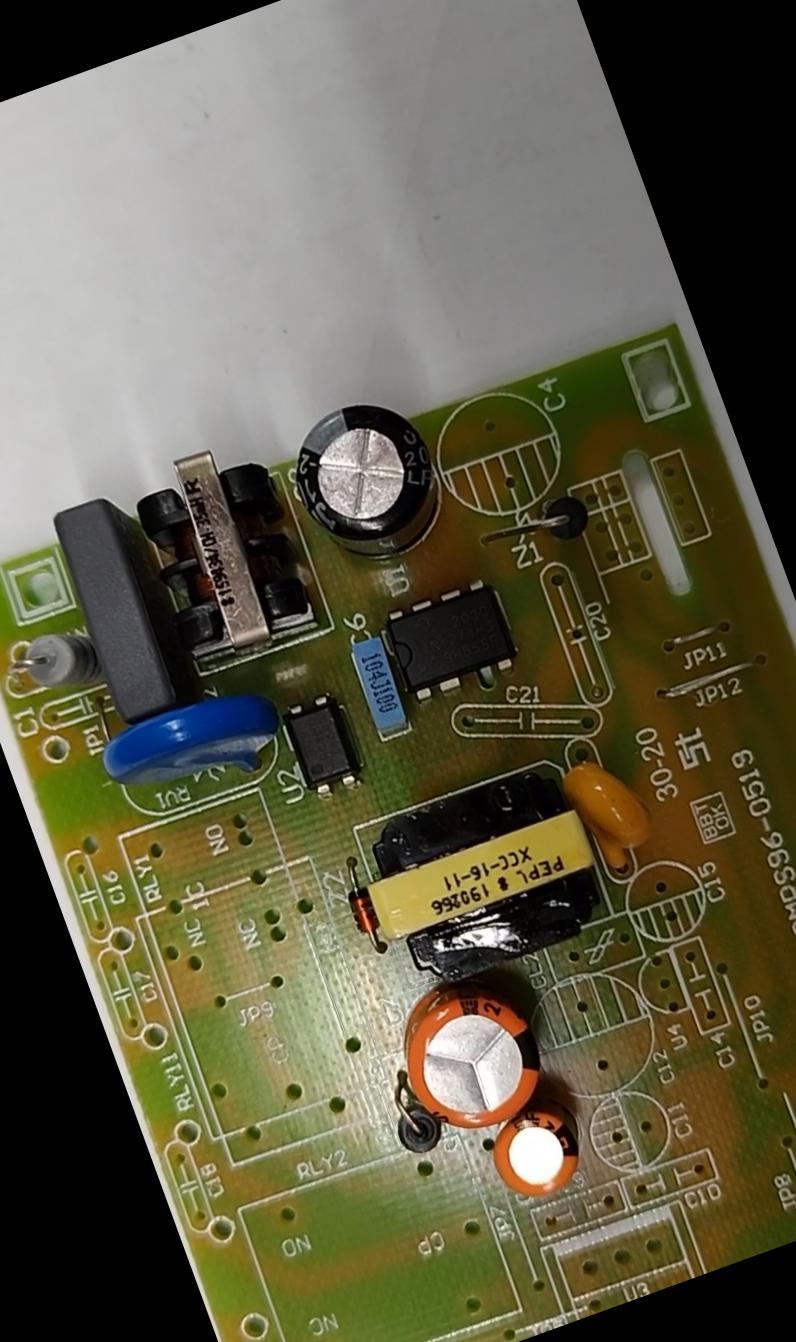Cap1: (381, 960, 560, 1148)
Cap2: (482, 1104, 589, 1208)
Cap3: (280, 388, 455, 580)
MOSFET: (383, 576, 516, 701)
Mov: (92, 676, 284, 815)
Resistor: (5, 616, 110, 711)
Transformer: (342, 750, 622, 999), (125, 436, 318, 665)
